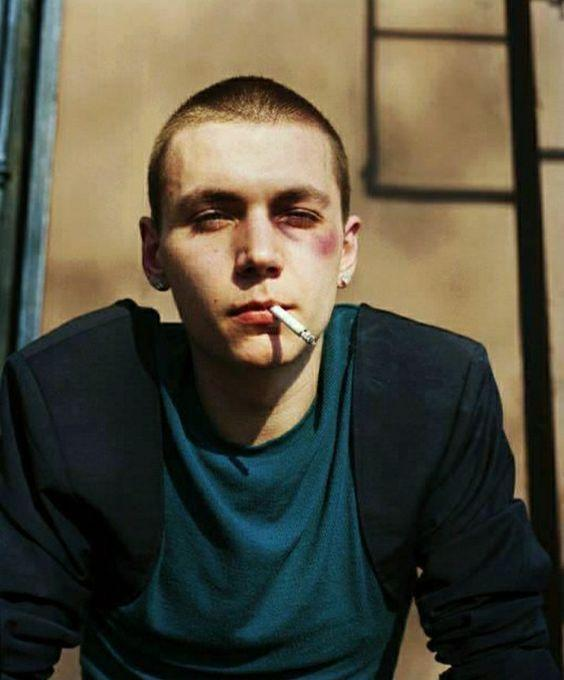cigarette: (269, 304, 316, 345)
